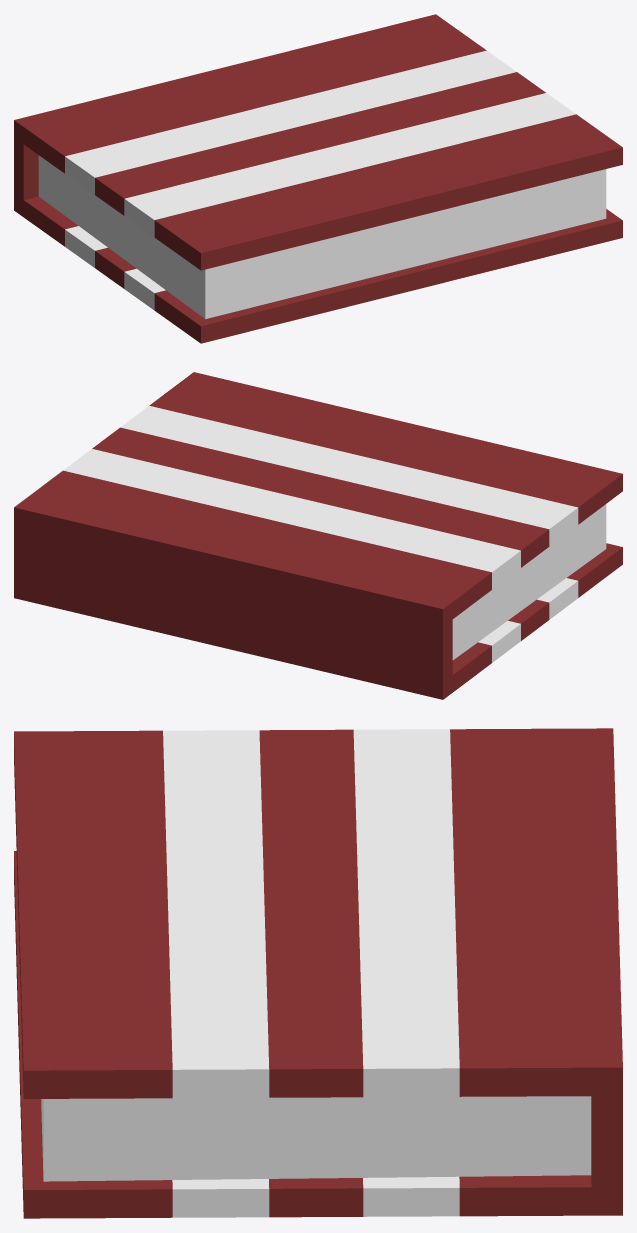
The model's file is Book_7.fbx.
3 renders of one model, top to bottom at view 1: azimuth 30°, elevation 25°; view 2: azimuth 150°, elevation 25°; view 3: azimuth 270°, elevation 25°, orthographic. The views are drawn at different scales.
Parts seen in each view (by area): view 1: Book_7; view 2: Book_7; view 3: Book_7.
Boxes of the visible parts, box(x1,y1,x2,y2) form: Book_7: box(14, 14, 622, 343); Book_7: box(14, 372, 622, 699); Book_7: box(14, 728, 622, 1218).
Size of the model in its own units: 0.2293 by 0.0462 by 0.1725.
